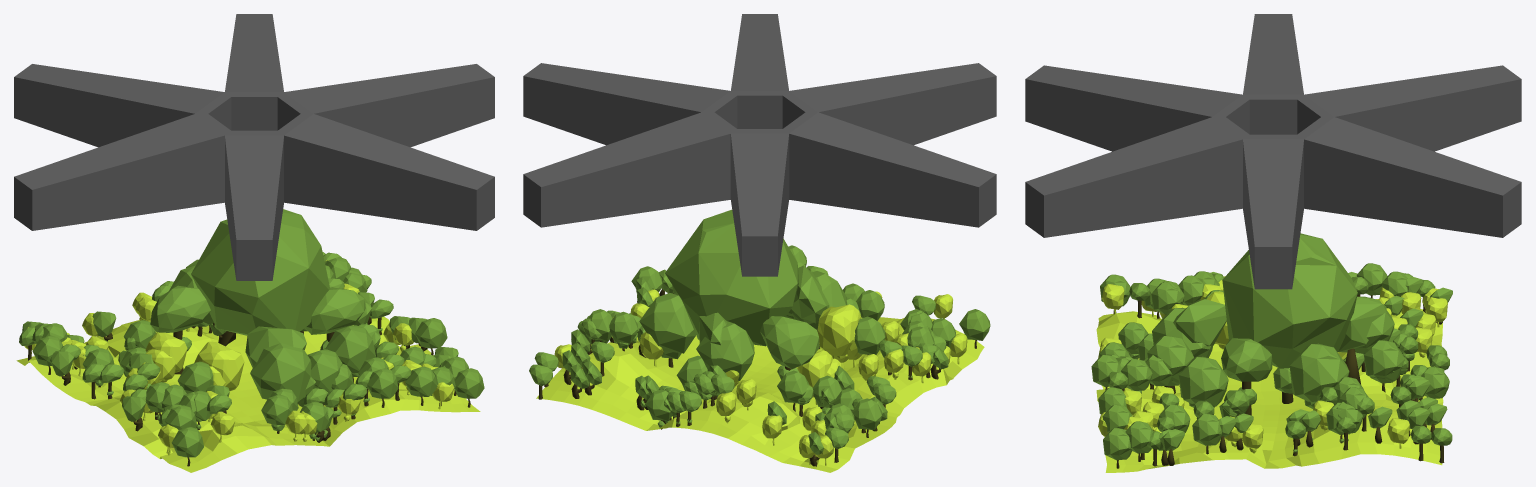
File: mapForet.fbx
The picture shows the model from 3 angles, left to right: view 1: azimuth 30°, elevation 25°; view 2: azimuth 150°, elevation 25°; view 3: azimuth 270°, elevation 25°; orthographic projection. The views are drawn at different scales.
Parts seen in each view (by area): view 1: plateau_node_premier_rendu; view 2: plateau_node_premier_rendu; view 3: plateau_node_premier_rendu.
Boxes of the visible parts, x1=… form: plateau_node_premier_rendu: x1=14, y1=14, x2=494, y2=472; plateau_node_premier_rendu: x1=523, y1=14, x2=996, y2=472; plateau_node_premier_rendu: x1=1025, y1=14, x2=1521, y2=472.
Bounding box in the file's own units: 31905 × 18055 × 28713.
